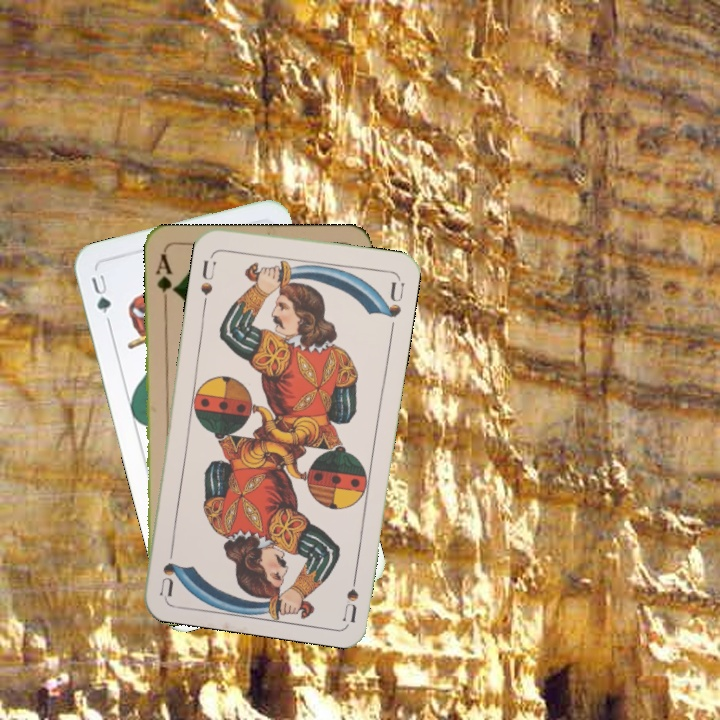GA: (151, 250, 178, 309)
GU: (87, 270, 114, 326)
SU: (339, 563, 361, 623), (196, 256, 219, 298)
